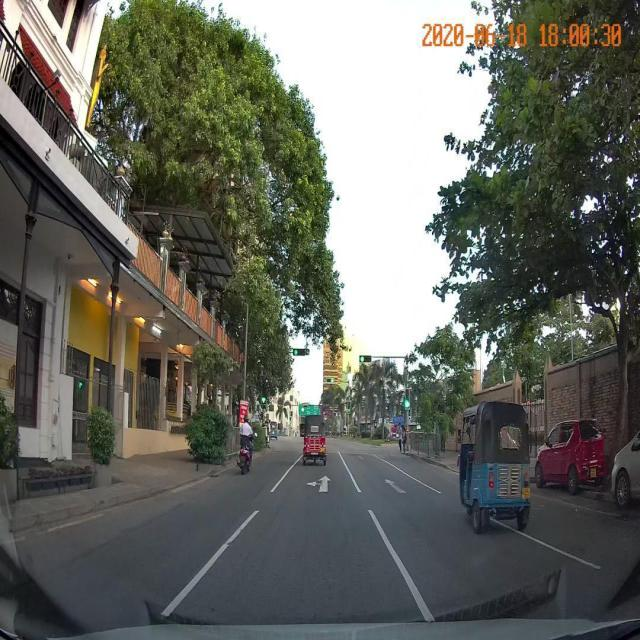Liniya 1: (160, 509, 261, 617), (367, 507, 437, 621), (490, 520, 602, 570), (382, 457, 444, 494), (45, 513, 105, 535), (269, 457, 300, 494), (339, 456, 363, 494)
Strelka vpered: (385, 478, 407, 494)
Strelka vpered - vlevo: (306, 475, 332, 493)
